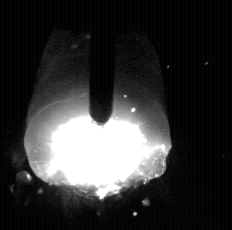arame: (90, 0, 116, 124)
poca: (24, 0, 172, 230)
